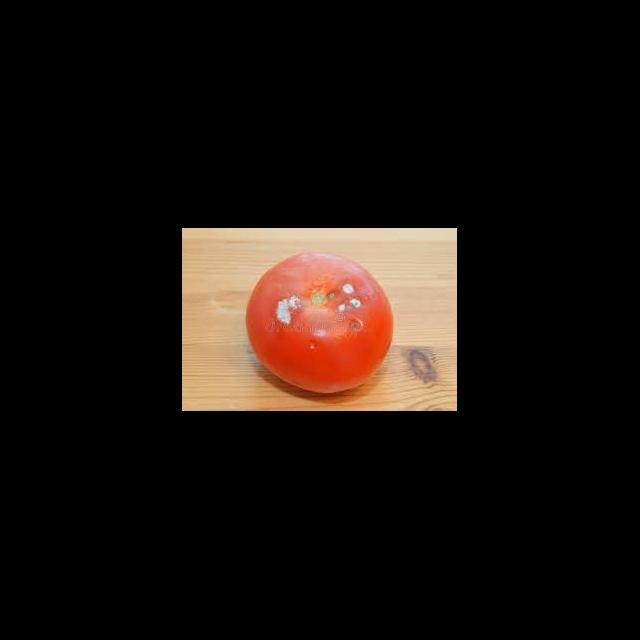tomato: (247, 248, 398, 378)
